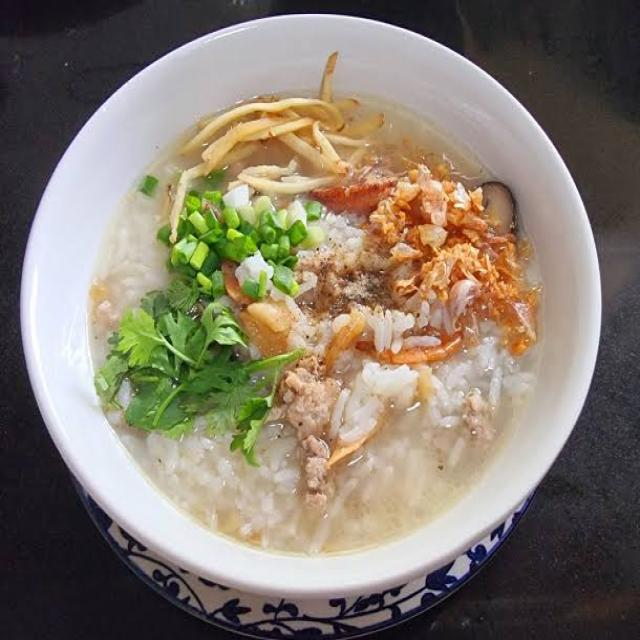carb: (273, 187, 500, 535), (158, 426, 464, 548)
meat: (288, 376, 351, 518)
rice porridge: (56, 116, 569, 580)
vegetable: (119, 174, 301, 407)
